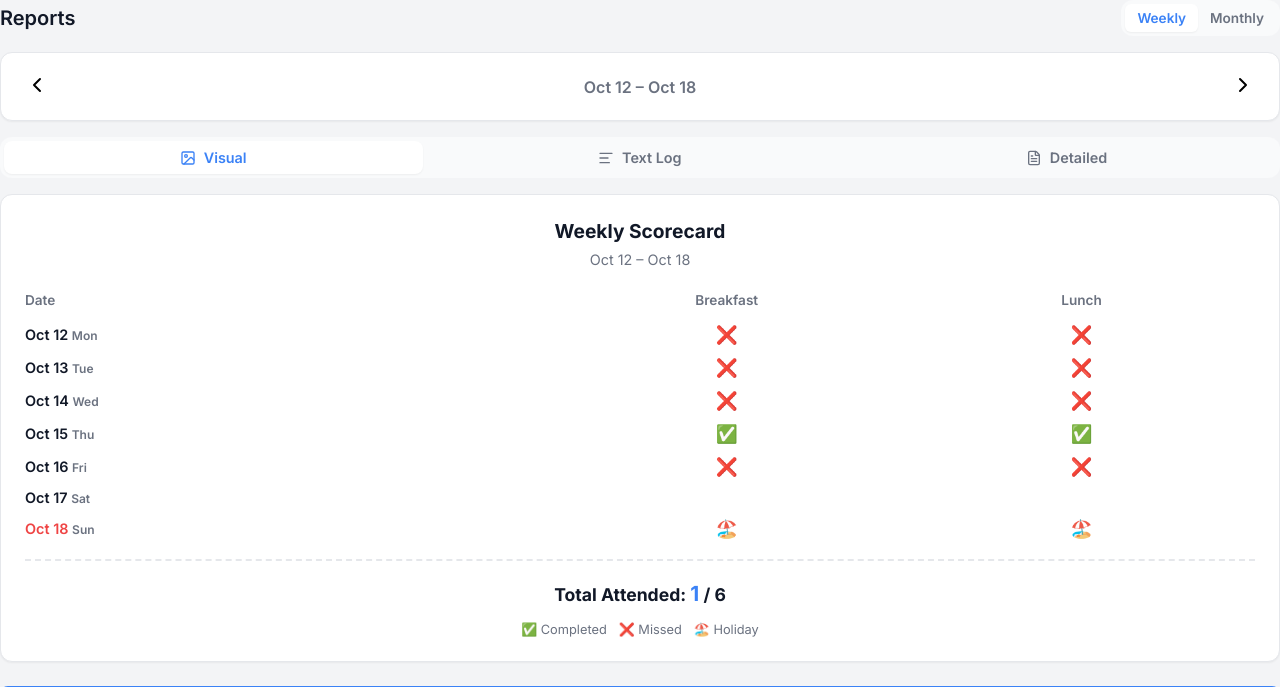
Scenario: ReportsView Component › switches between time ranges (Weekly/Monthly)
// Switch to Monthly
Click the button "Monthly" at x=1237, y=18, box top-left (1198, 4), bottom-right (1276, 32)
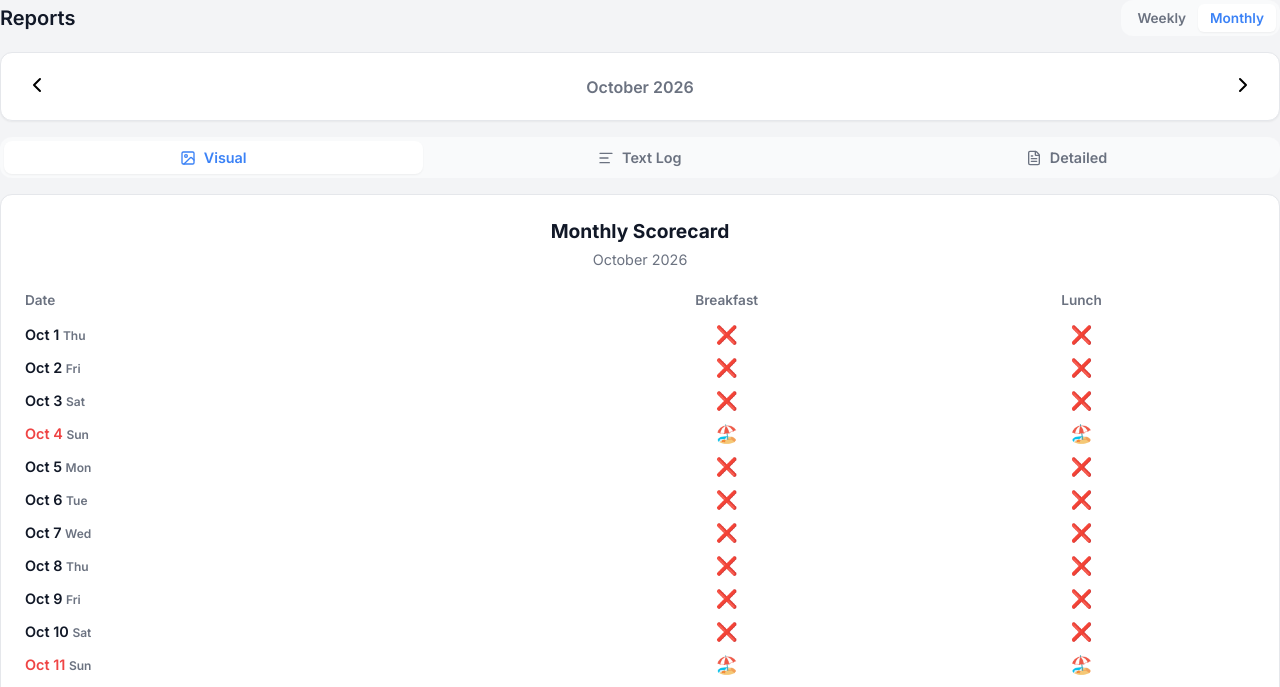
Result: the 1st text "October 2026" is shown at top-left (586, 76), bottom-right (694, 96)
// Switch back to Weekly
Click the button "Weekly" at x=1162, y=18, box top-left (1125, 4), bottom-right (1198, 32)
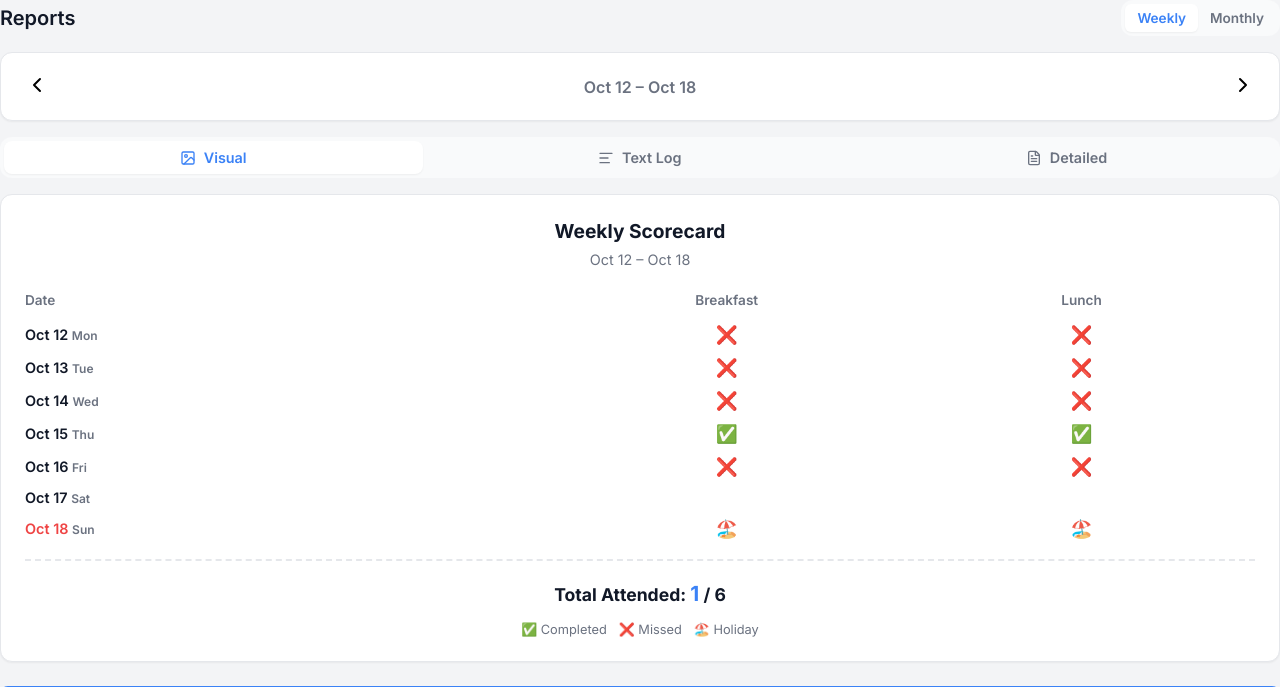
Result: the 1st text "Oct 12 – Oct 18" is shown at top-left (584, 76), bottom-right (696, 96)
